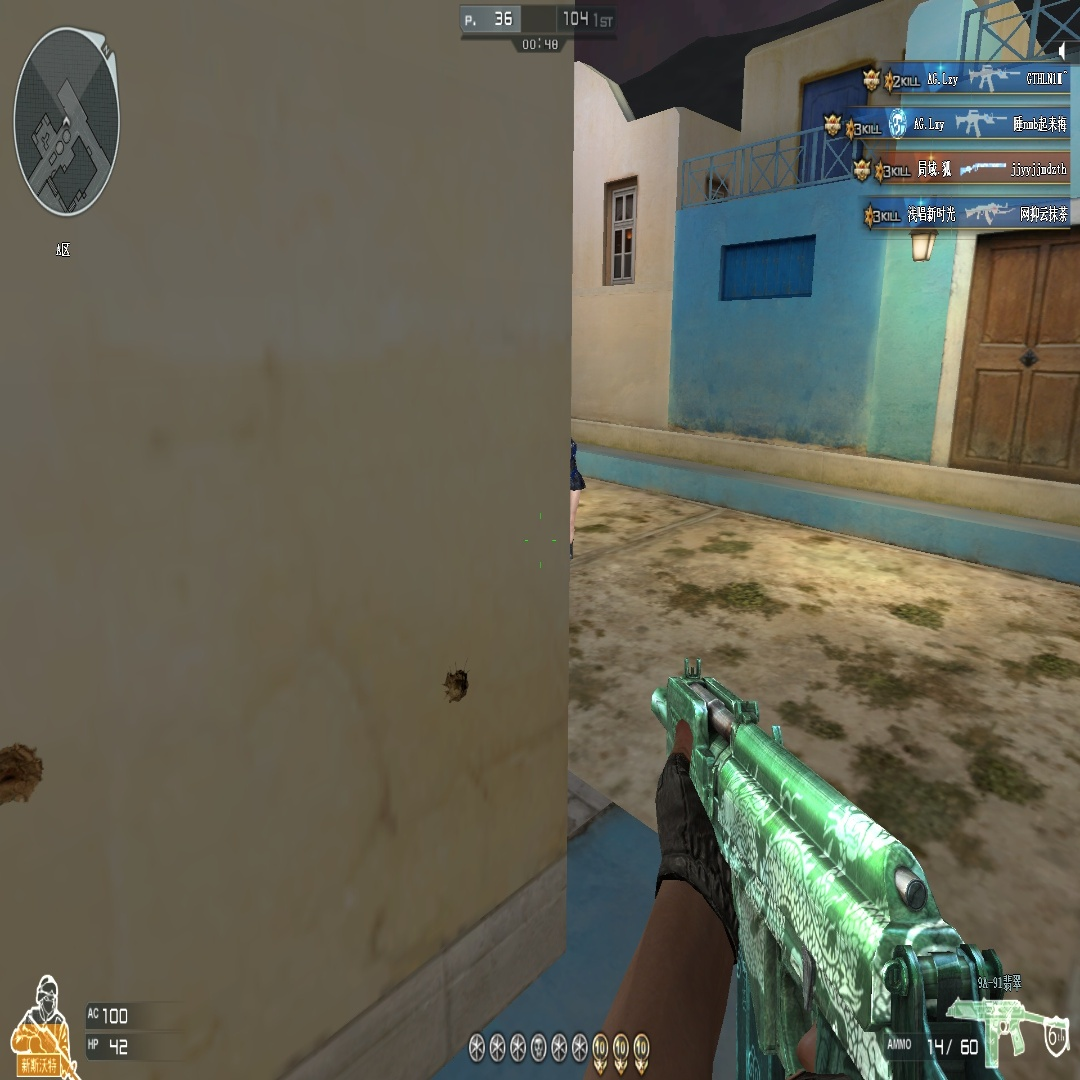p: (570, 435, 586, 557)
